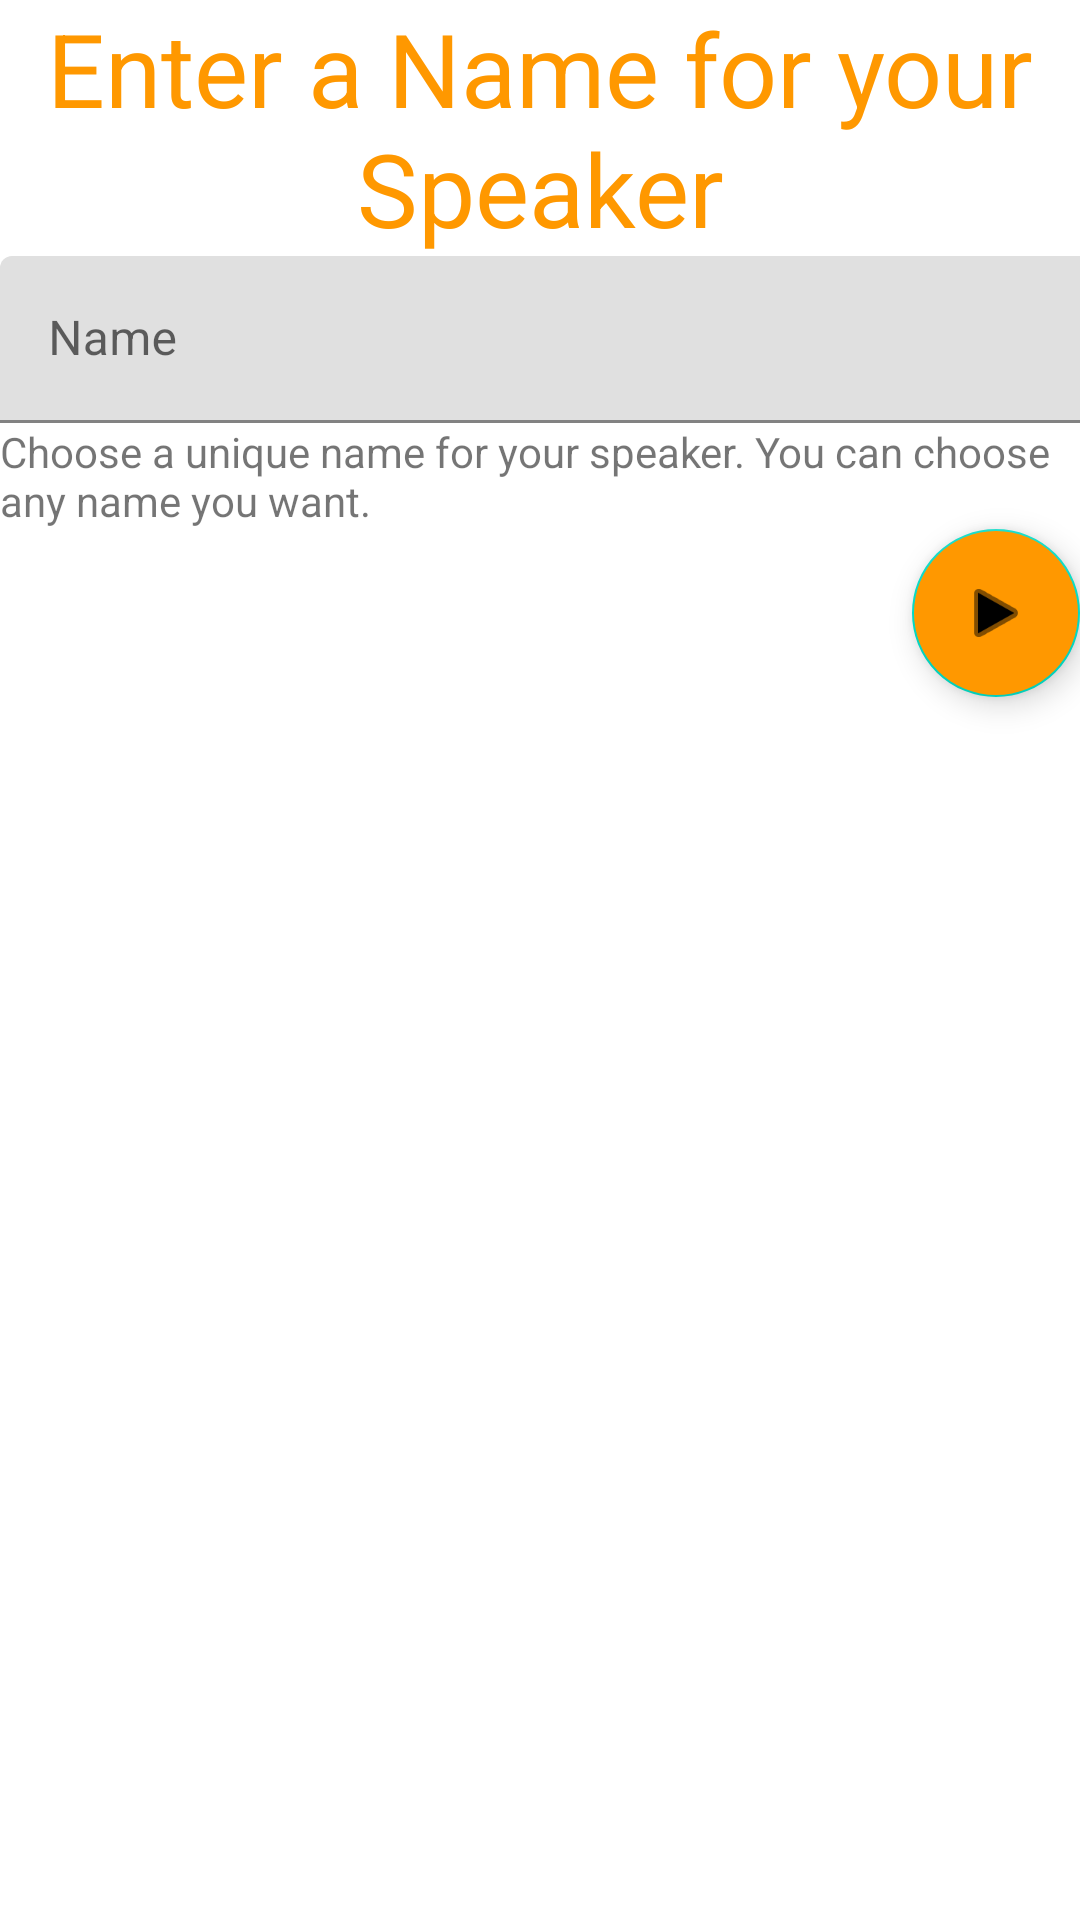

Where to tap for icons on this 1080 x 1920 app screen, as (x,y):
Next: (996,613)
